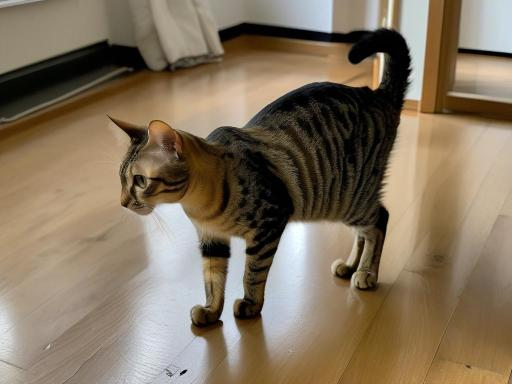cat_standing: (110, 28, 411, 326)
